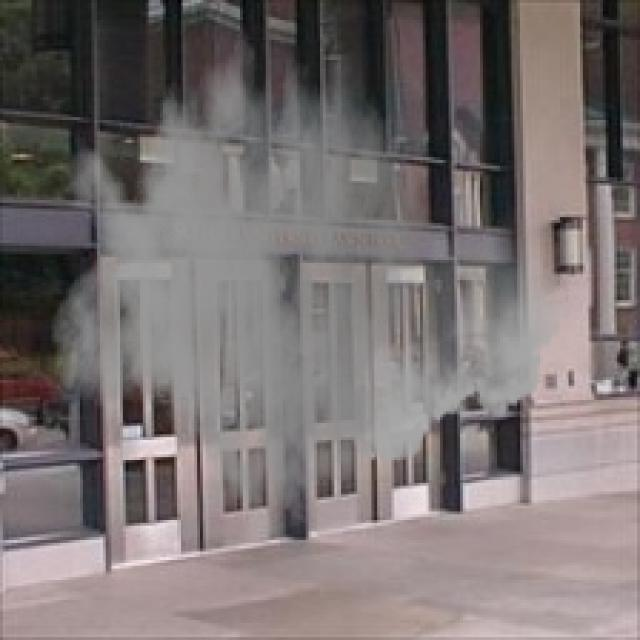smoke: (49, 3, 568, 528)
